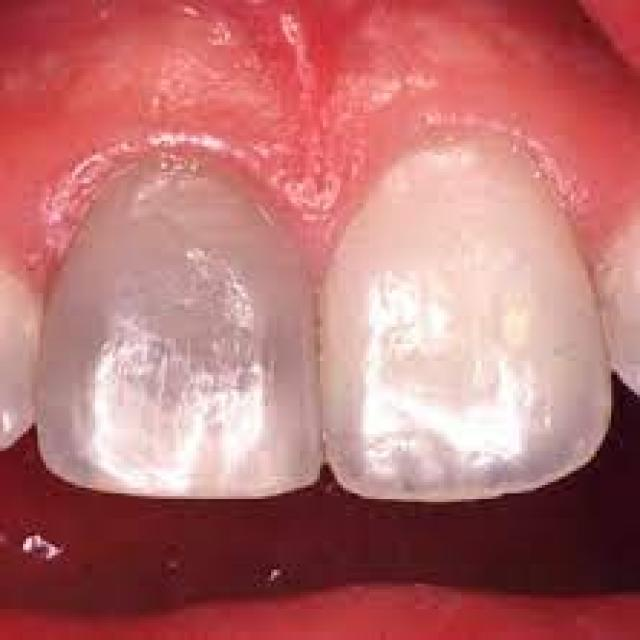Tooth Discoloration: (42, 141, 327, 420)
